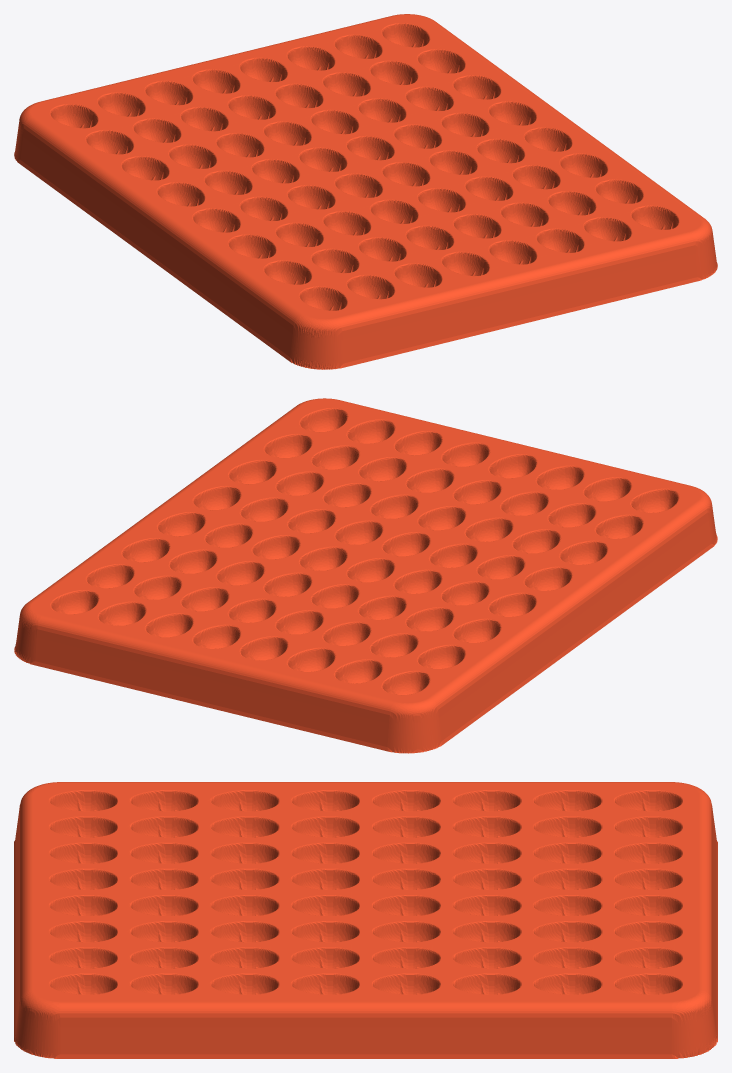
Rendered from mold.glb.
3 views of the same model, one above another, from view 1: azimuth 30°, elevation 25°; view 2: azimuth 150°, elevation 25°; view 3: azimuth 270°, elevation 25° (orthographic). The views are drawn at different scales.
Visible parts, largest first — view 1: geometry_0; view 2: geometry_0; view 3: geometry_0.
Part boxes in pixels (x1,y1,x2,y2): geometry_0: [14, 14, 717, 369]; geometry_0: [14, 398, 717, 753]; geometry_0: [14, 782, 717, 1058].
Bounding box in the file's own units: 0.1067 × 0.0105 × 0.1355.
